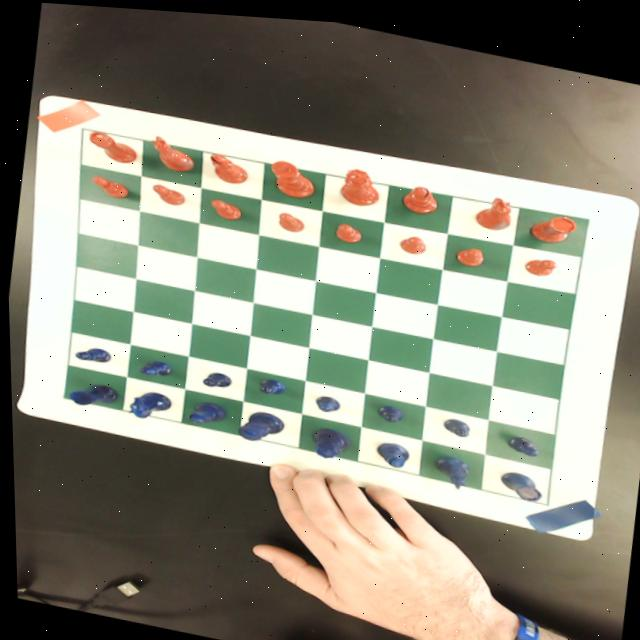B: (184, 396, 227, 427), (371, 433, 409, 464)
K: (235, 404, 284, 442)
N: (123, 384, 172, 422), (429, 447, 470, 485)
P: (71, 341, 109, 365), (136, 353, 172, 378), (503, 425, 539, 450), (439, 409, 470, 433), (199, 366, 231, 388), (254, 372, 285, 394), (371, 397, 402, 419), (311, 389, 340, 409)
Q: (305, 420, 350, 457)
R: (65, 376, 116, 412), (495, 461, 542, 495)
b: (206, 149, 251, 183), (399, 176, 440, 210)
k: (265, 154, 318, 196)
n: (143, 129, 198, 173), (472, 185, 513, 226)
p: (88, 169, 134, 202), (148, 180, 187, 205), (452, 236, 487, 262), (206, 194, 243, 218), (522, 248, 557, 271), (332, 215, 363, 240), (275, 206, 305, 230), (397, 227, 427, 250)
q: (337, 160, 381, 203)
r: (83, 126, 139, 164), (526, 201, 578, 240)
